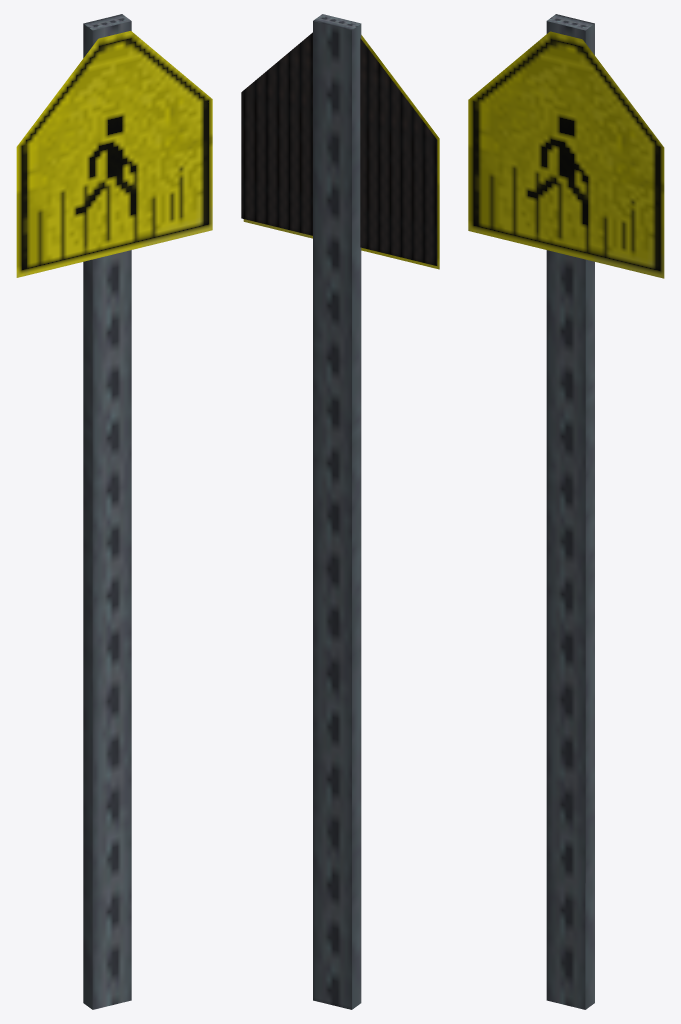
The model's file is BLOCKYGON_SIGN(CROSSWALK).fbx.
The picture shows the model from 3 angles, left to right: view 1: azimuth 30°, elevation 25°; view 2: azimuth 150°, elevation 25°; view 3: azimuth 330°, elevation 25°; orthographic projection.
Visible parts, largest first — view 1: BLOCKYGON_SIGN_CROSSWALK_; view 2: BLOCKYGON_SIGN_CROSSWALK_; view 3: BLOCKYGON_SIGN_CROSSWALK_.
Part boxes in pixels (x1,y1,x2,y2): BLOCKYGON_SIGN_CROSSWALK_: (16, 14, 212, 1009); BLOCKYGON_SIGN_CROSSWALK_: (241, 14, 439, 1009); BLOCKYGON_SIGN_CROSSWALK_: (468, 14, 664, 1009).
Bounding box in the file's own units: 45.76 × 219 × 4.29.
